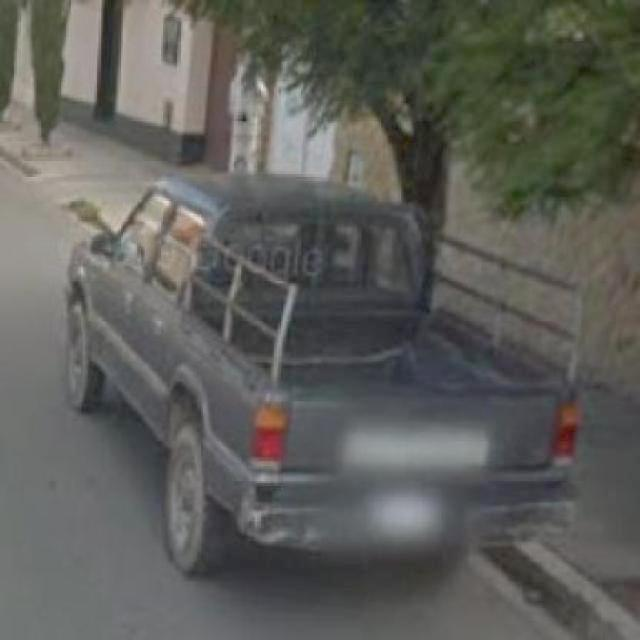car: (50, 167, 590, 584)
